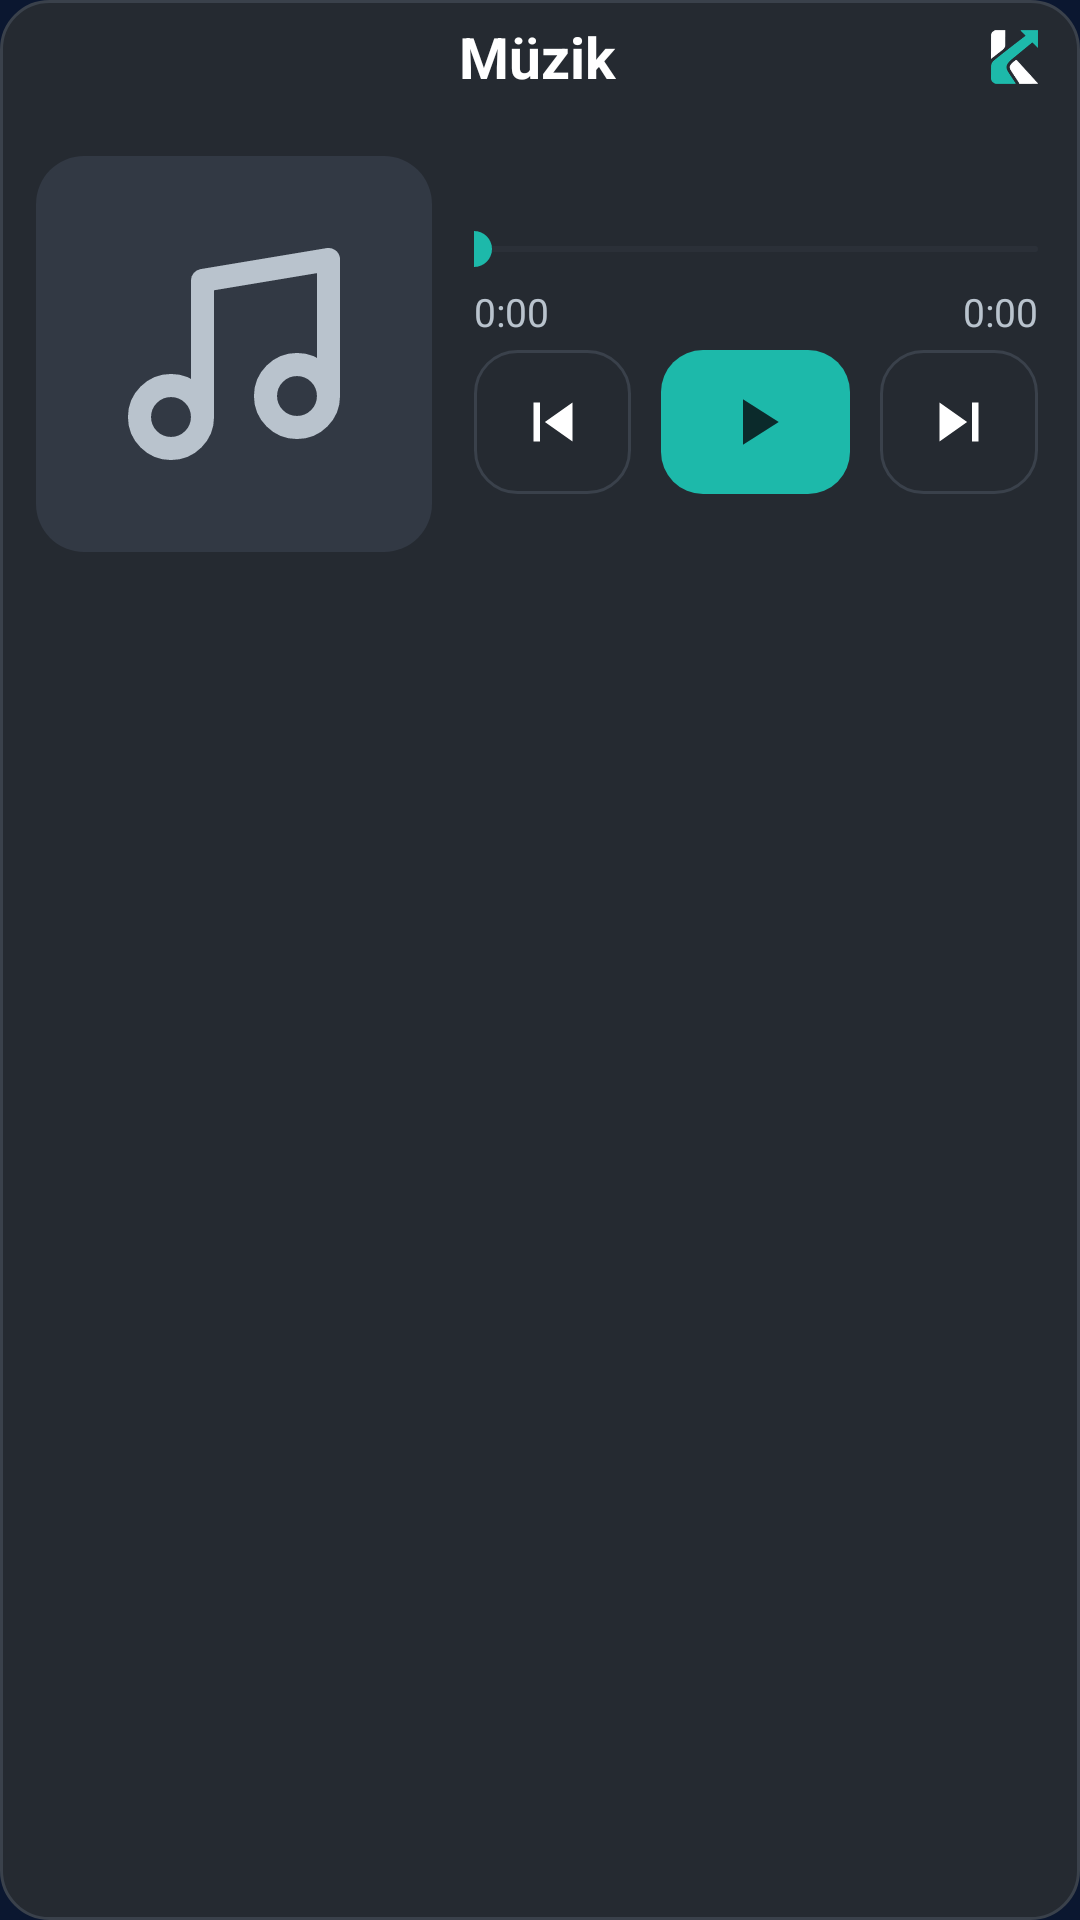

Screen size 1080*1920. Icon name, then its center in pixels as (x,y):
Oynat / Duraklat: (755,422)
Sonraki: (959,422)
Önceki: (552,422)
